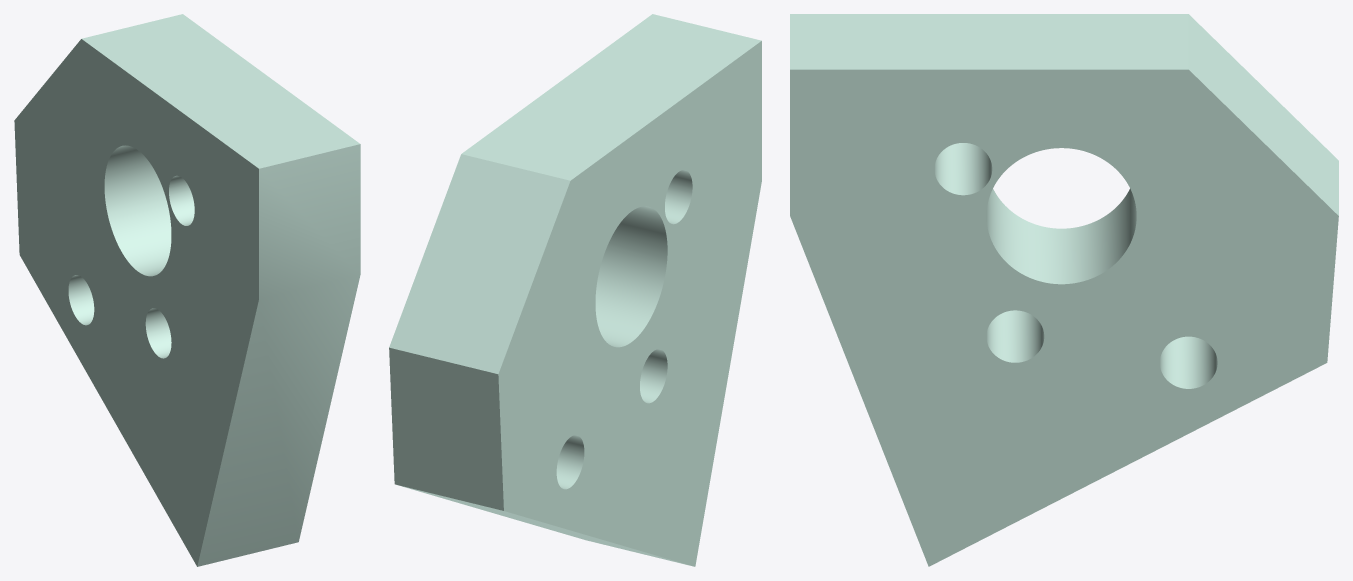
3 views of the same model, side by side, from view 1: azimuth 30°, elevation 25°; view 2: azimuth 150°, elevation 25°; view 3: azimuth 270°, elevation 25° (orthographic). The views are drawn at different scales.
Visible parts, largest first — view 1: Renderer Node; view 2: Renderer Node; view 3: Renderer Node.
Part boxes in pixels (x1,y1,x2,y2): Renderer Node: (14, 14, 360, 566); Renderer Node: (389, 14, 761, 566); Renderer Node: (790, 14, 1338, 566).
Size of the model in its own units: 0.1797 by 0.75 by 0.75.
